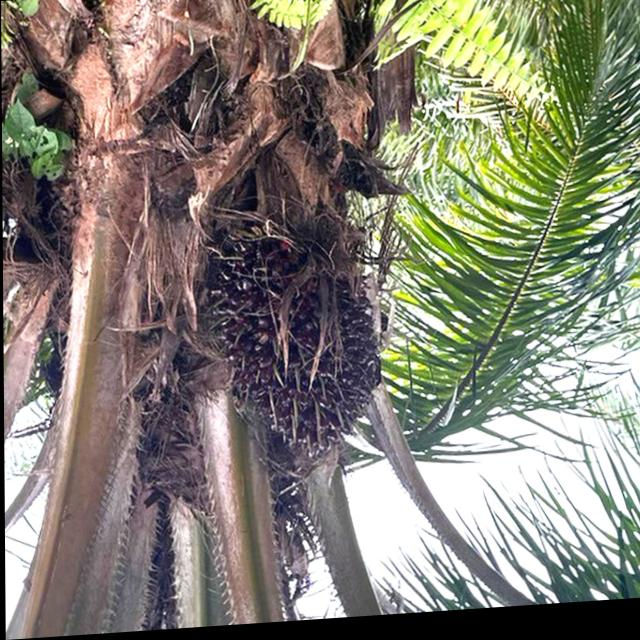ripe: (197, 204, 395, 477)
